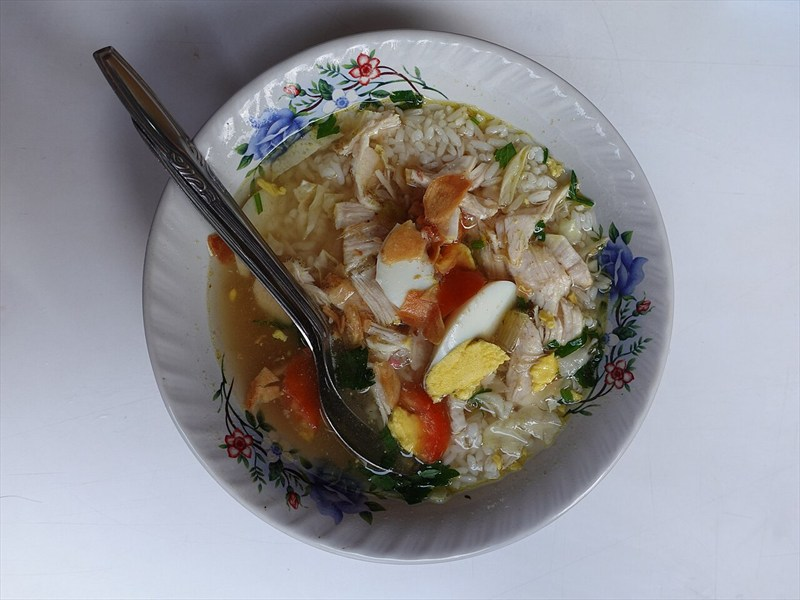Soto Ayam: (177, 74, 638, 506)
